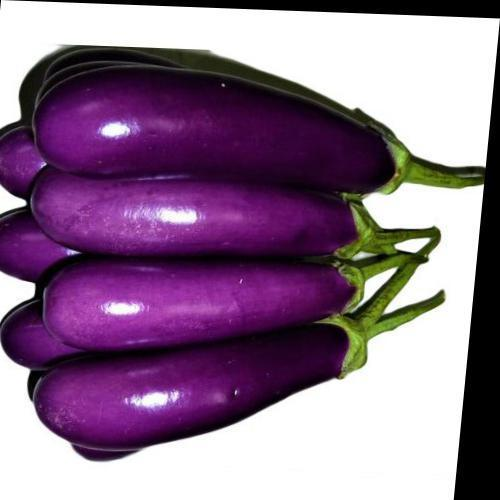eggplant: (15, 58, 466, 446)
